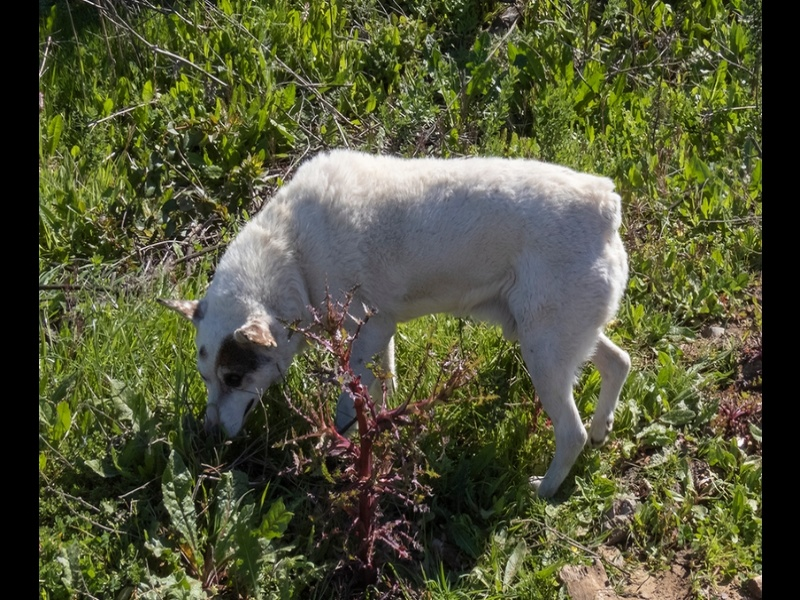dog: (194, 149, 636, 505)
